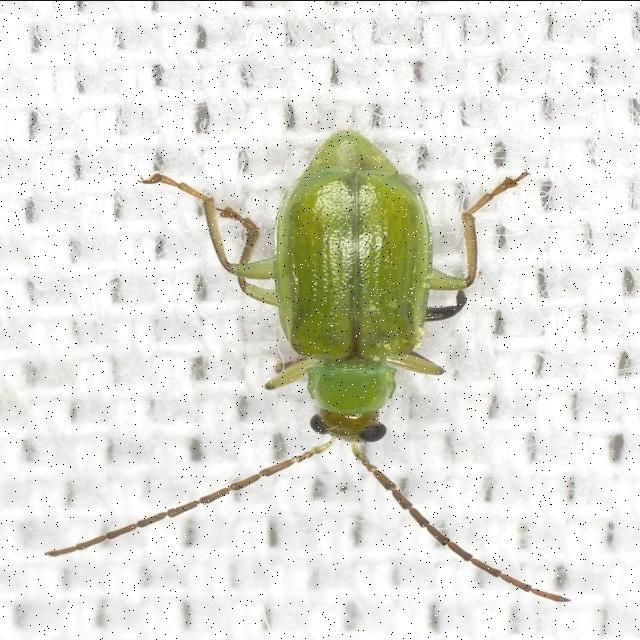gusano_gris: (39, 80, 594, 592)
